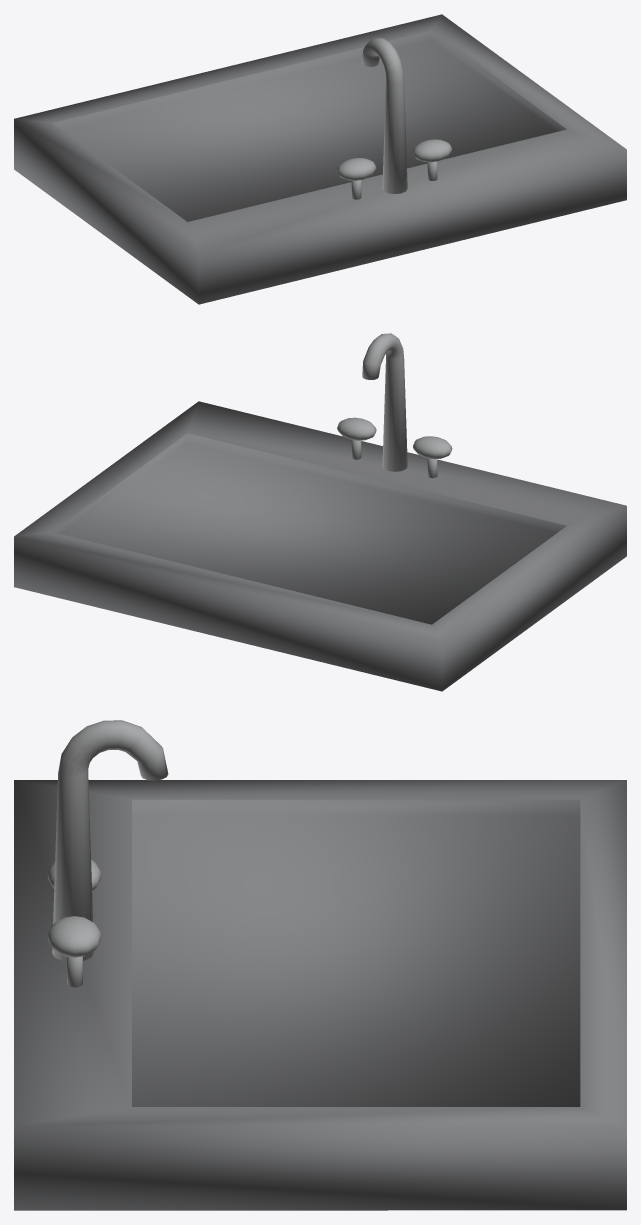
File: Sink.fbx
The picture shows the model from 3 angles, top to bottom: view 1: azimuth 30°, elevation 25°; view 2: azimuth 150°, elevation 25°; view 3: azimuth 270°, elevation 25°; orthographic projection. The views are drawn at different scales.
Visible parts, largest first — view 1: sink; view 2: sink; view 3: sink.
Part boxes in pixels (x1,y1,x2,y2): sink: (14, 14, 626, 304); sink: (14, 333, 626, 691); sink: (14, 720, 626, 1210).
Bounding box in the file's own units: 142 × 60.32 × 106.
